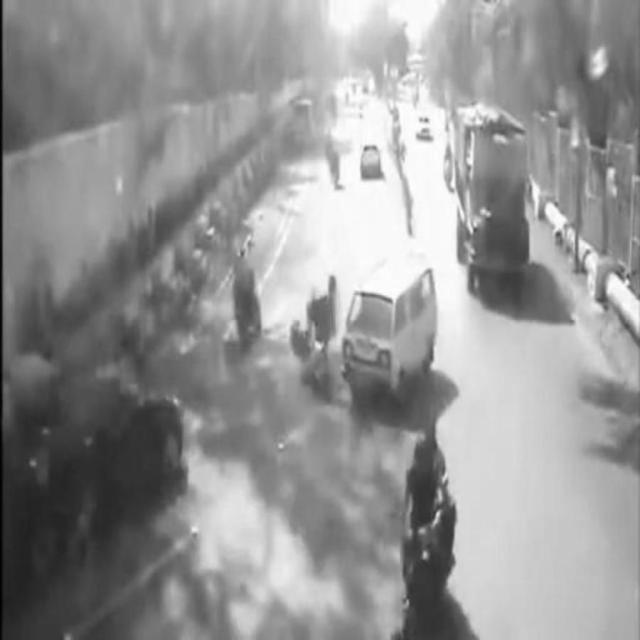accident: (290, 246, 438, 408)
vehicle: (455, 109, 537, 301), (398, 426, 462, 626)
